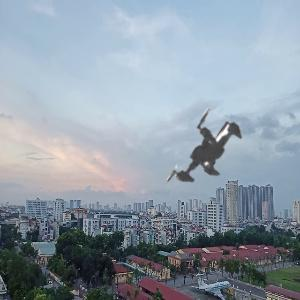drone: (137, 77, 294, 234)
